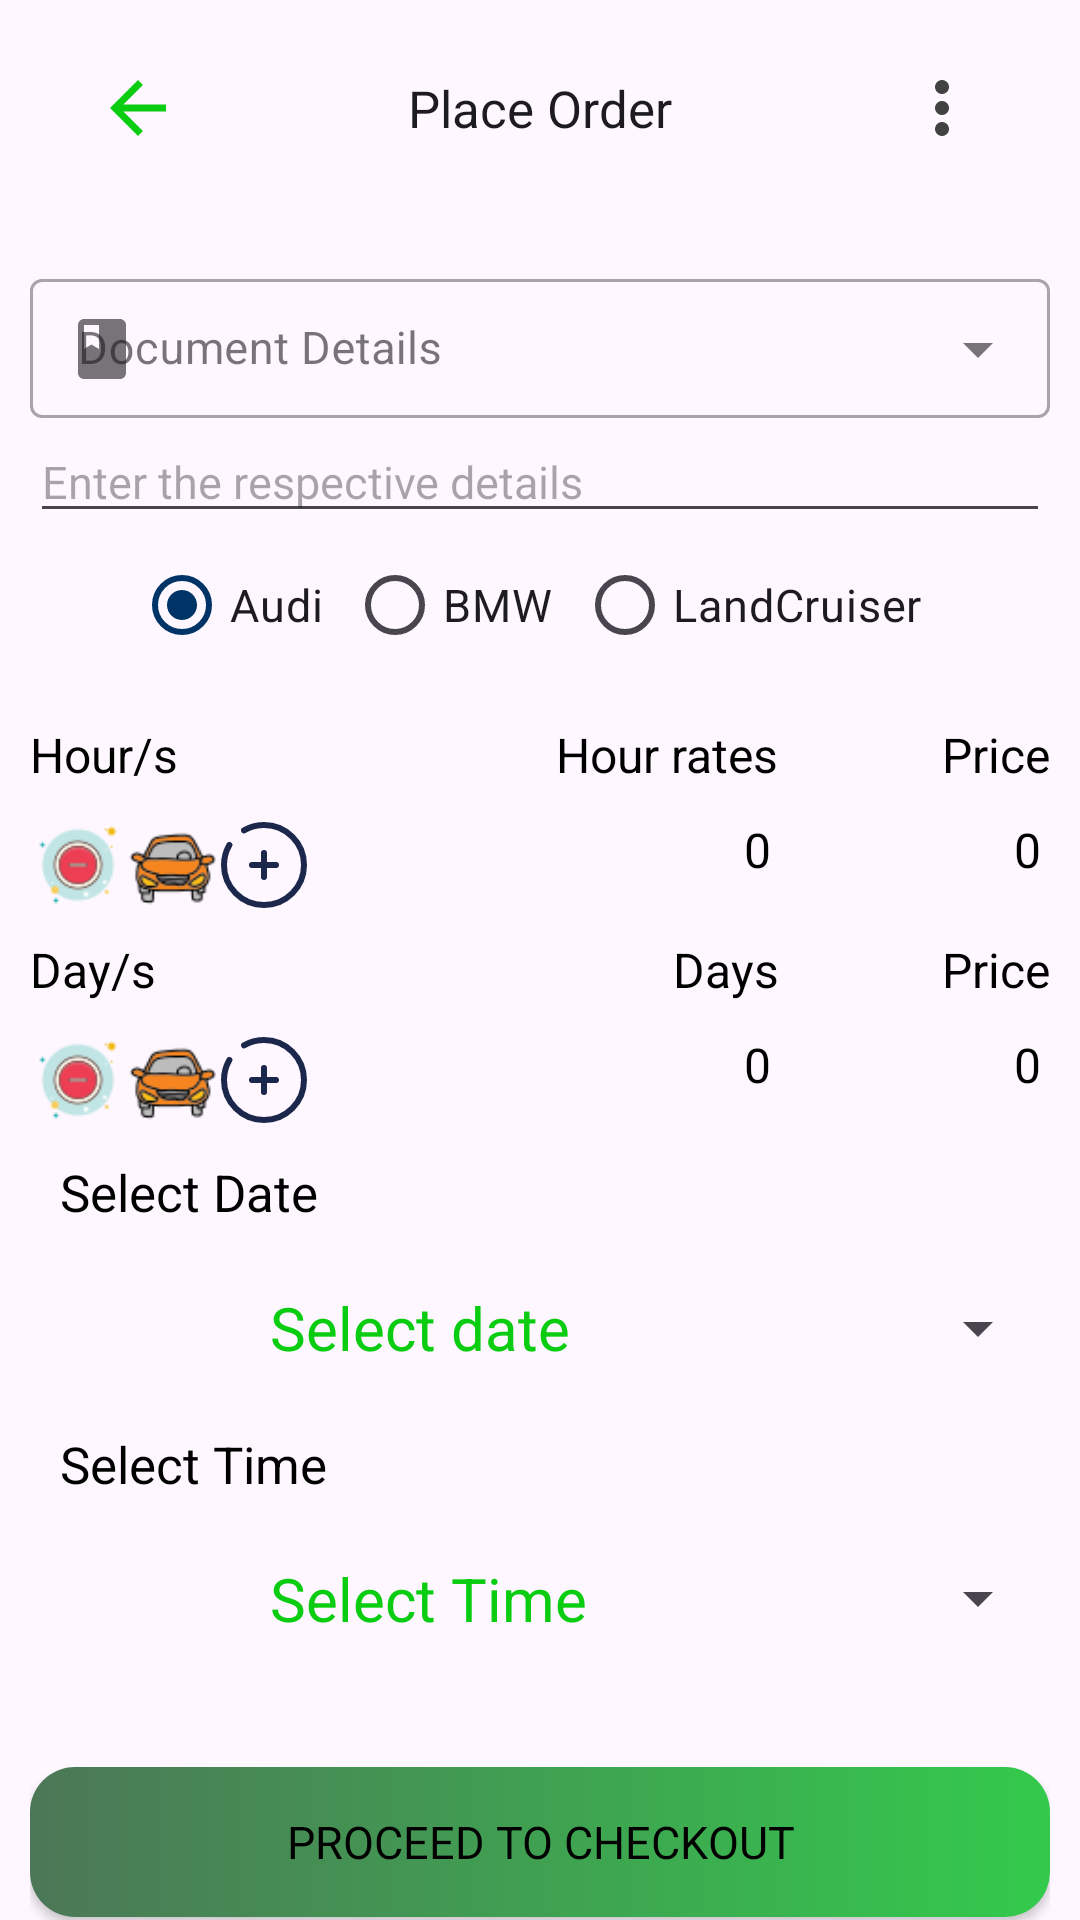

Locate icon controls on the screen. Image size 1080*1920, boxes as (x1, y1, x2, y2).
backbtn: (110, 80, 166, 136)
car: (130, 833, 216, 904), (130, 1048, 216, 1119)
minus: (39, 826, 117, 904), (39, 1041, 117, 1119)
more vert: (935, 80, 949, 136)
